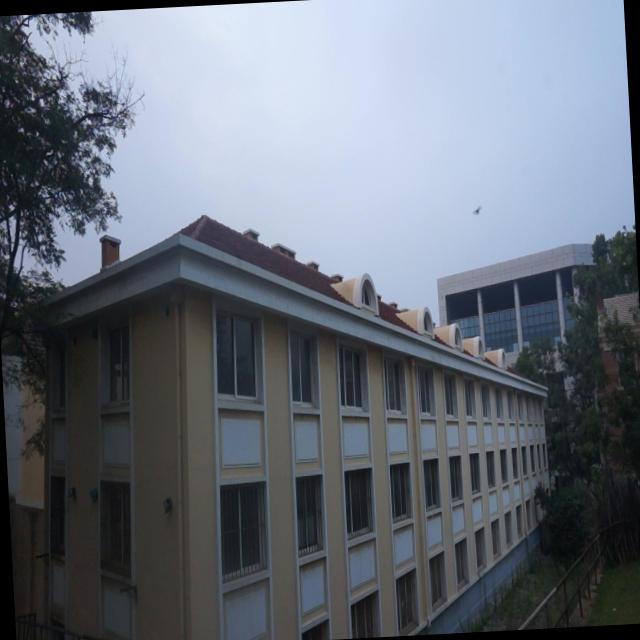drone: (471, 200, 483, 218)
